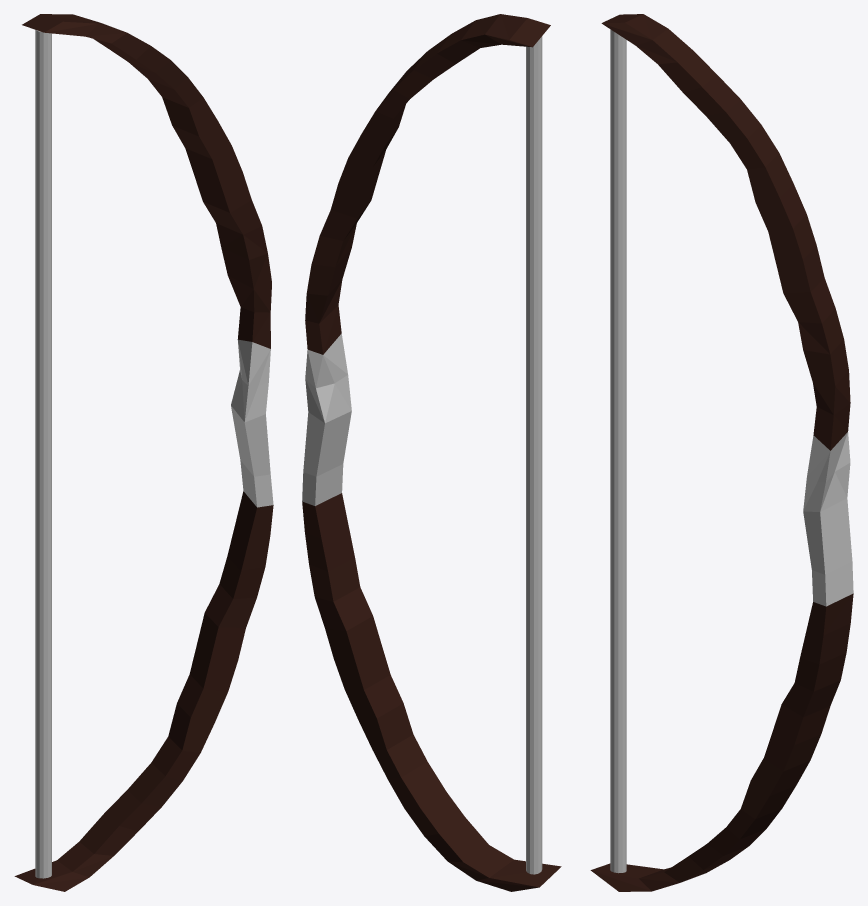
File: Bow.obj
The picture shows the model from 3 angles, left to right: view 1: azimuth 30°, elevation 25°; view 2: azimuth 150°, elevation 25°; view 3: azimuth 330°, elevation 25°; orthographic projection.
Size of the model in its own units: 0.3233 by 1.1 by 0.0739.
